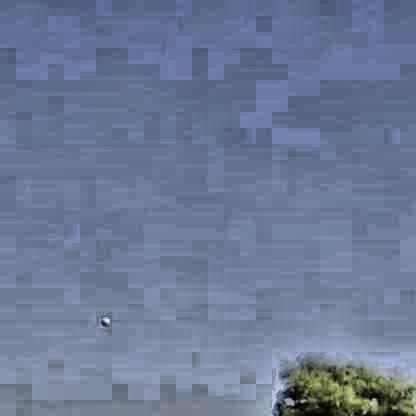golfball: (98, 315, 108, 324)
